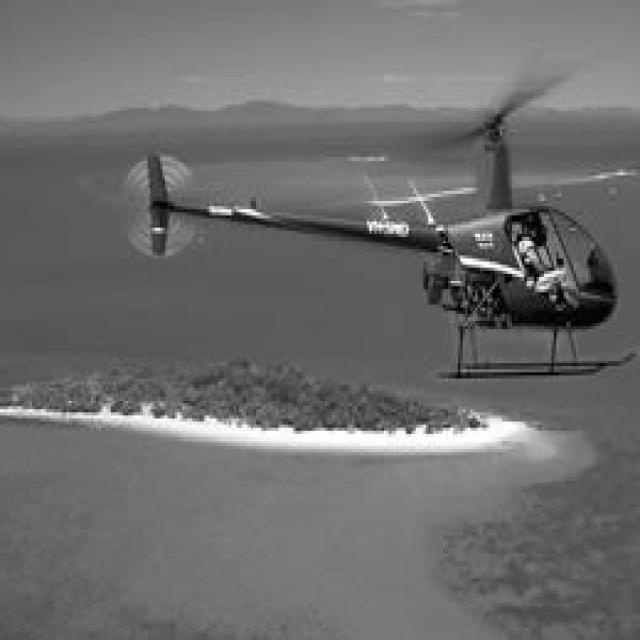helicopter: (122, 75, 634, 386)
